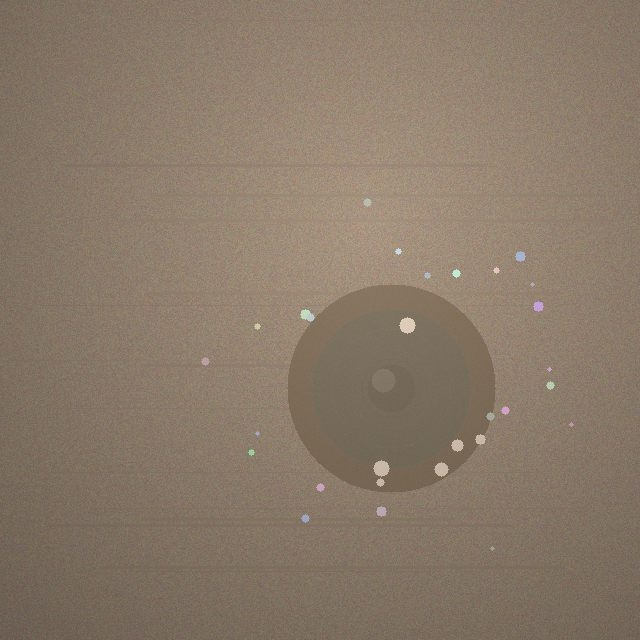overburn: (287, 284, 495, 492)
